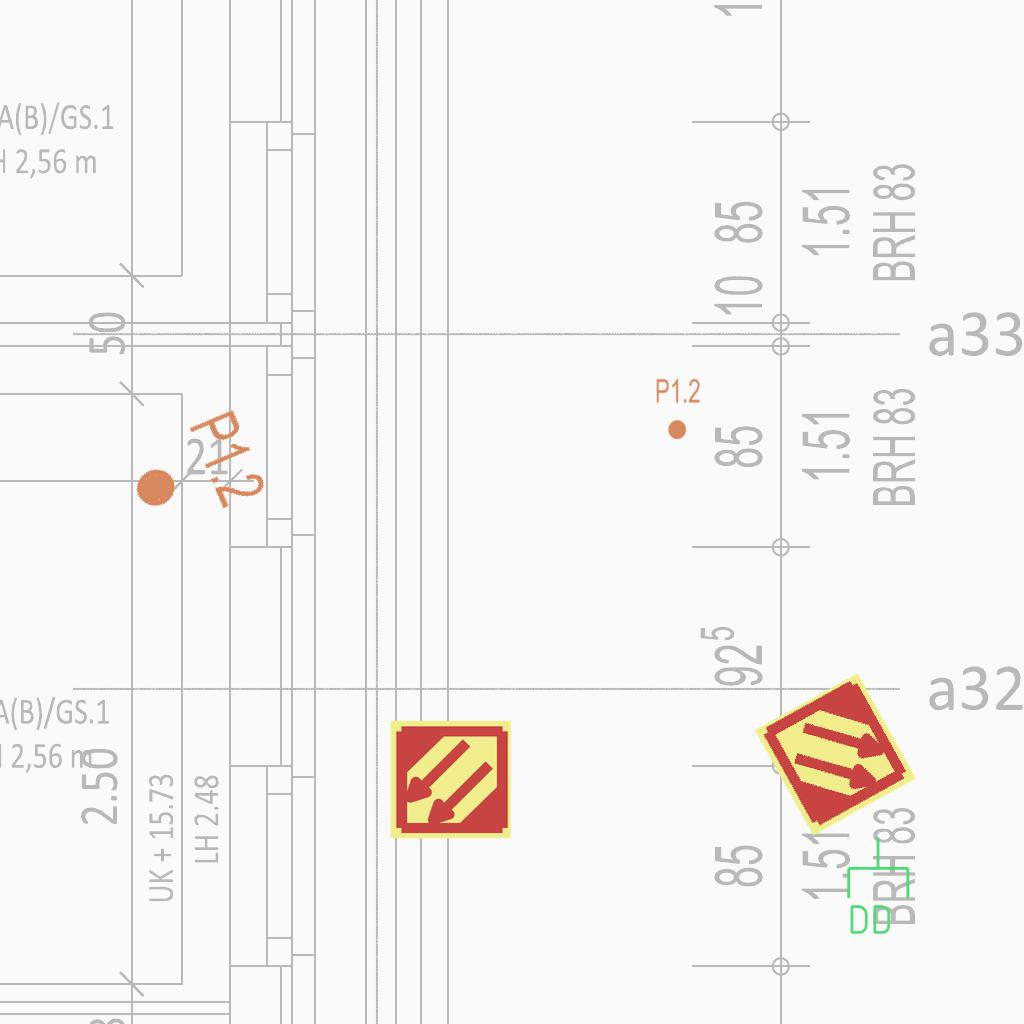ASR_Ansaugrauchmelder: (750, 669, 921, 840), (388, 717, 513, 842)
Datenanschluss_zweifach: (843, 835, 912, 938)
Downlight_LED_Einbauleuchten_Flur: (117, 405, 272, 541), (655, 377, 701, 441)
